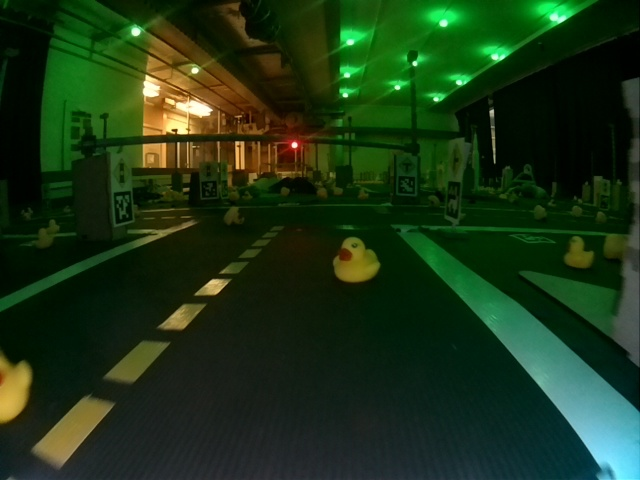Duckie: (1, 353, 33, 421), (332, 237, 378, 280), (564, 236, 594, 268), (34, 229, 53, 248), (224, 207, 244, 225)
Intersection sign: (450, 143, 463, 175), (399, 157, 415, 175)
QR code: (113, 191, 132, 224), (445, 180, 458, 219), (511, 233, 554, 242), (397, 178, 416, 194), (201, 181, 216, 197)
Signal sign: (113, 158, 131, 189), (202, 163, 214, 178)
Traffic light: (290, 140, 300, 150)
